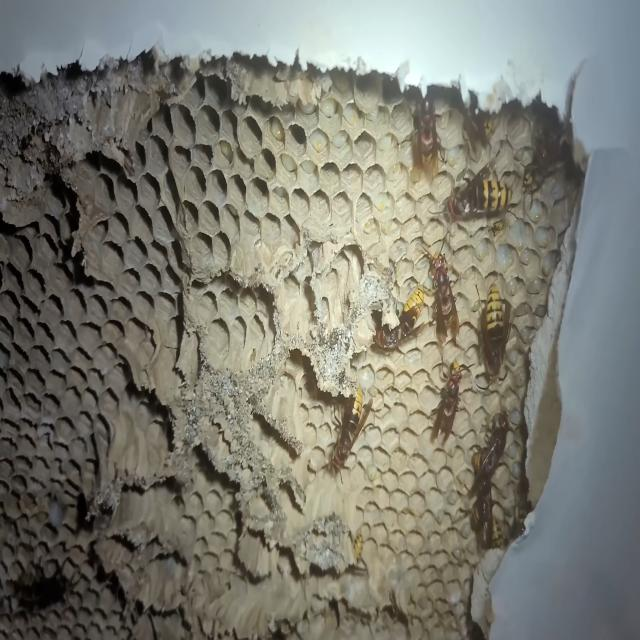Hornets: (444, 157, 516, 226), (423, 231, 462, 349), (474, 278, 514, 391), (329, 383, 372, 486), (370, 282, 426, 358), (429, 350, 474, 444), (470, 405, 508, 497), (412, 89, 447, 185)
